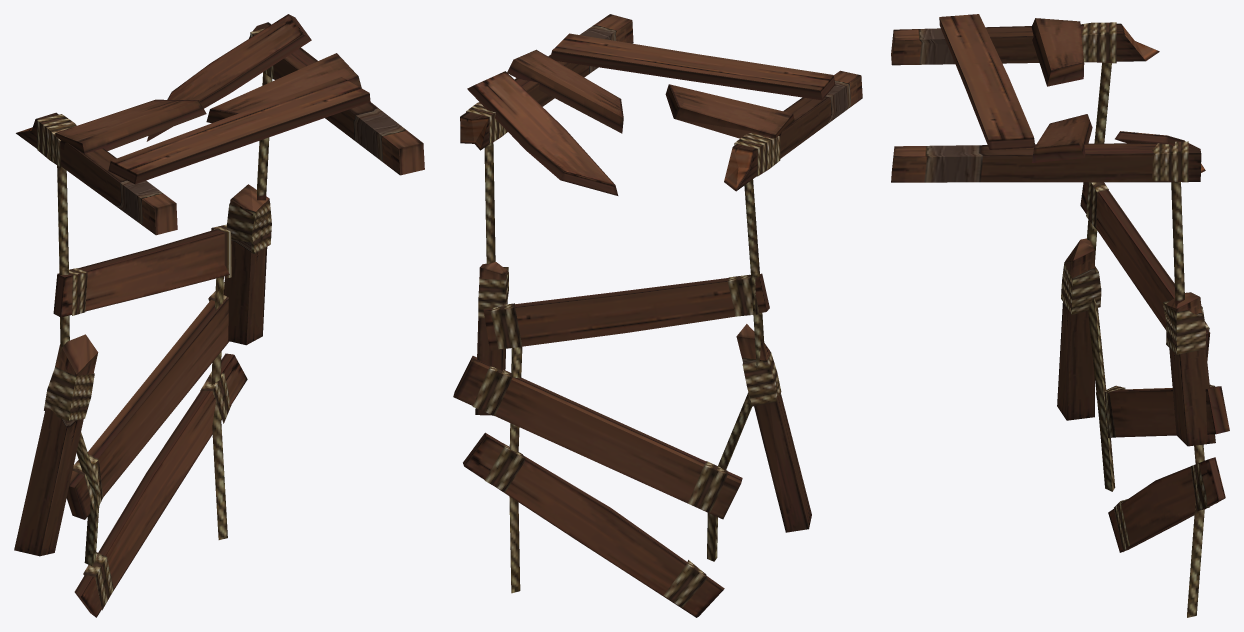
The model's file is 2_YiZhan_MuDuaniQiao_01.FBX.
3 views of the same model, side by side, from view 1: azimuth 30°, elevation 25°; view 2: azimuth 150°, elevation 25°; view 3: azimuth 270°, elevation 25° (orthographic). The views are drawn at different scales.
Visible parts, largest first — view 1: 2_YiZhan_MuDuaniQiao_01_04, 2_YiZhan_MuDuaniQiao_01_01, 2_YiZhan_MuDuaniQiao_01_03, 2_YiZhan_MuDuaniQiao_01_02; view 2: 2_YiZhan_MuDuaniQiao_01_04, 2_YiZhan_MuDuaniQiao_01_01, 2_YiZhan_MuDuaniQiao_01_03, 2_YiZhan_MuDuaniQiao_01_02; view 3: 2_YiZhan_MuDuaniQiao_01_04, 2_YiZhan_MuDuaniQiao_01_01, 2_YiZhan_MuDuaniQiao_01_02, 2_YiZhan_MuDuaniQiao_01_03.
Part boxes in pixels (x1,y1,x2,y2): 2_YiZhan_MuDuaniQiao_01_04: (14,184,271,617); 2_YiZhan_MuDuaniQiao_01_01: (16,14,424,235); 2_YiZhan_MuDuaniQiao_01_03: (57,72,272,353); 2_YiZhan_MuDuaniQiao_01_02: (37,28,273,167); 2_YiZhan_MuDuaniQiao_01_04: (453,262,811,617); 2_YiZhan_MuDuaniQiao_01_01: (460,14,862,195); 2_YiZhan_MuDuaniQiao_01_03: (484,142,764,369); 2_YiZhan_MuDuaniQiao_01_02: (466,102,780,176); 2_YiZhan_MuDuaniQiao_01_04: (1057,182,1229,617); 2_YiZhan_MuDuaniQiao_01_01: (891,14,1205,182); 2_YiZhan_MuDuaniQiao_01_02: (1081,22,1188,182); 2_YiZhan_MuDuaniQiao_01_03: (1087,62,1184,306).
Size of the model in its own units: 311 by 490 by 289.
1 material, 1 textured.
